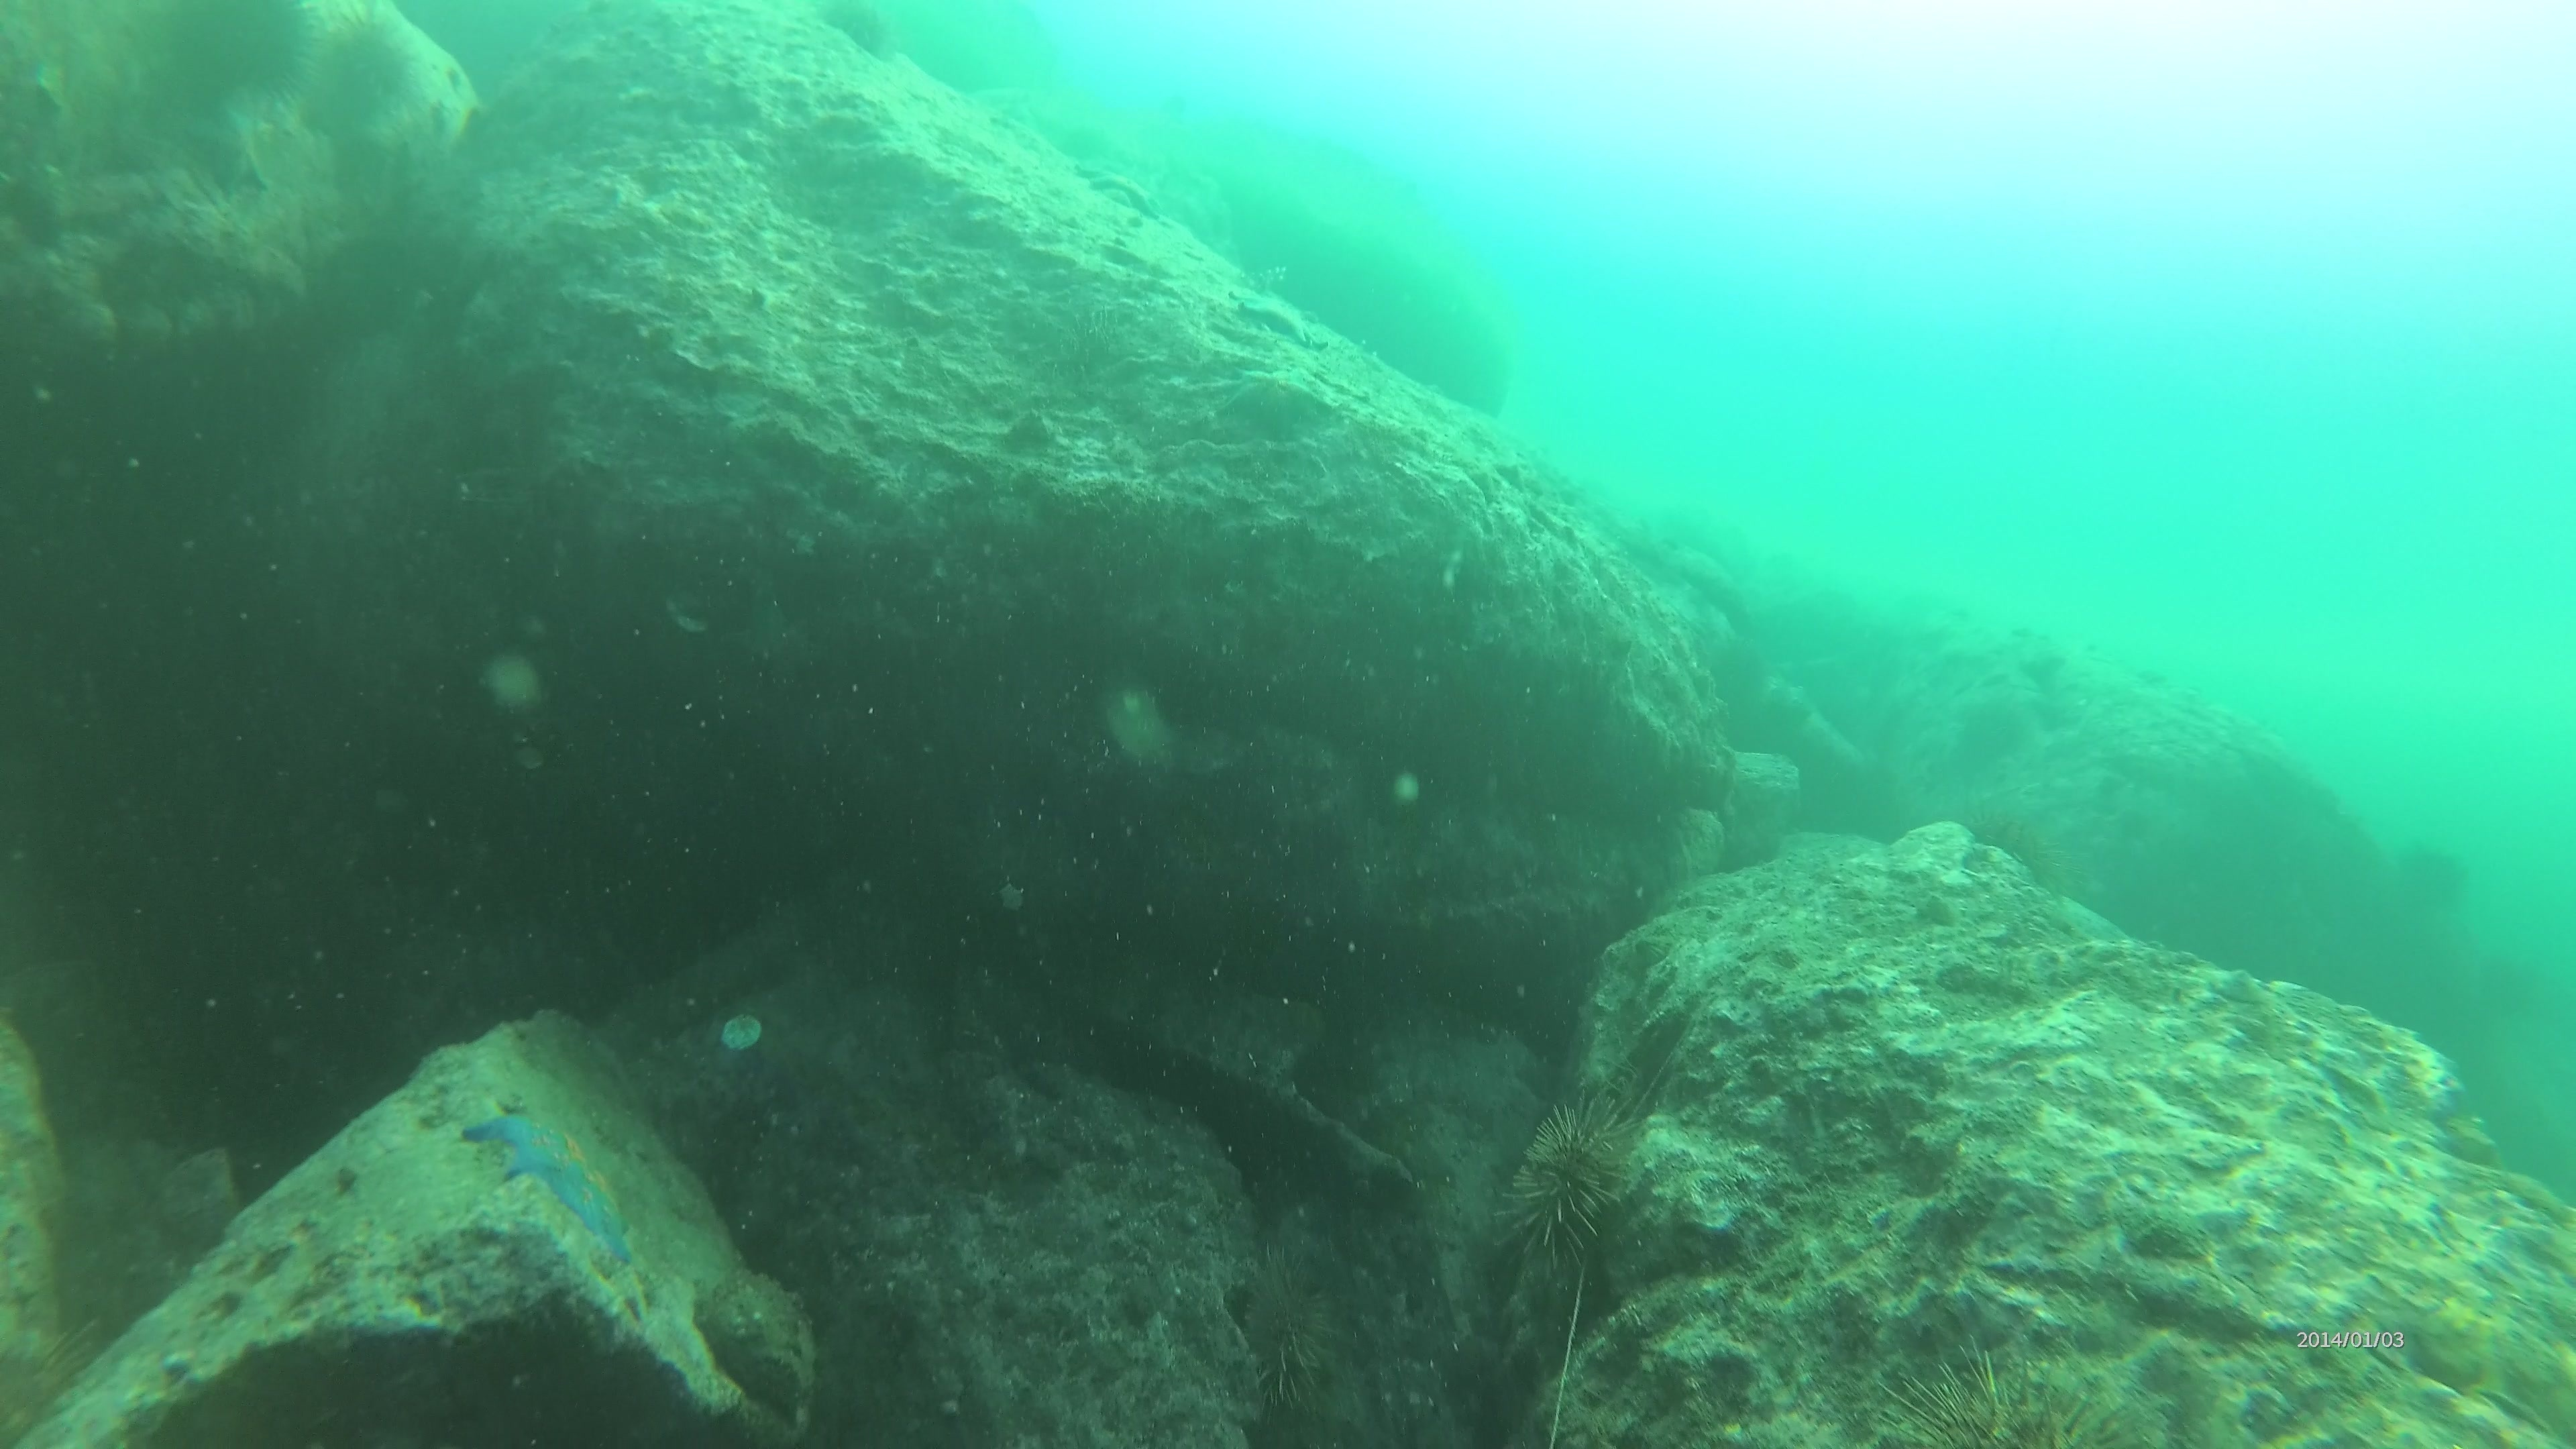echinus: (1493, 1090, 1654, 1276), (1868, 1341, 2118, 1442), (1219, 1246, 1361, 1410), (140, 2, 318, 122), (292, 5, 425, 145)
starfish: (455, 1097, 644, 1276), (1214, 366, 1339, 449)
